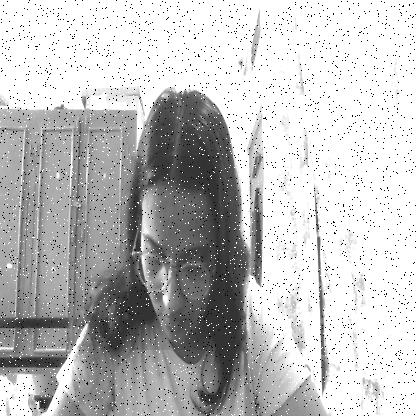Normal: (130, 156, 218, 350)
